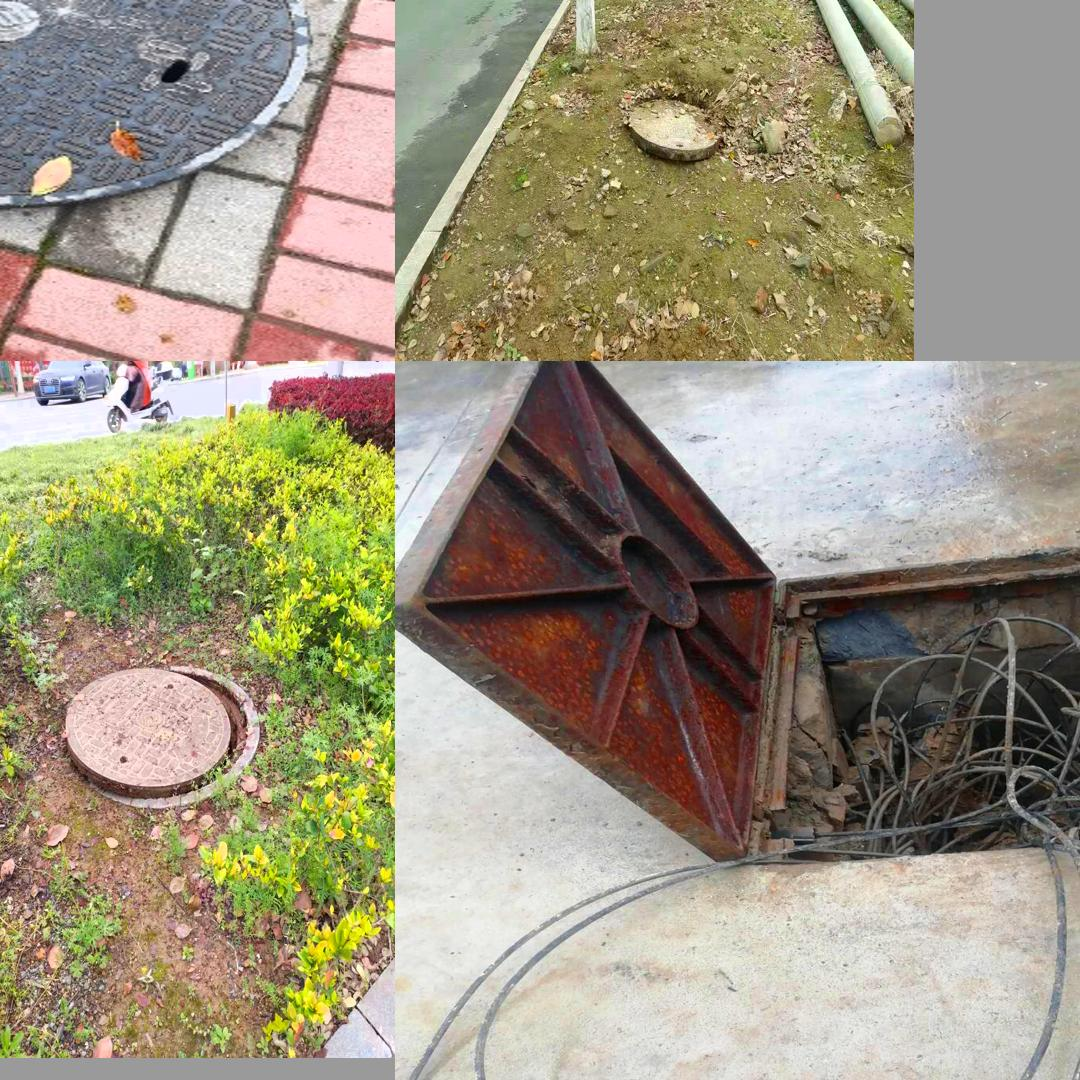uncovered: (405, 367, 1080, 870), (0, 0, 310, 208), (65, 665, 258, 807), (628, 101, 722, 164)
